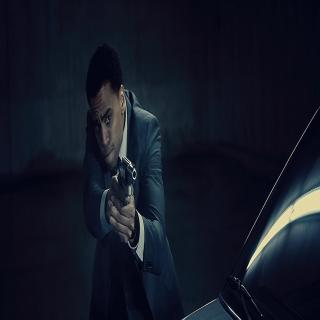gun: (114, 154, 139, 243)
